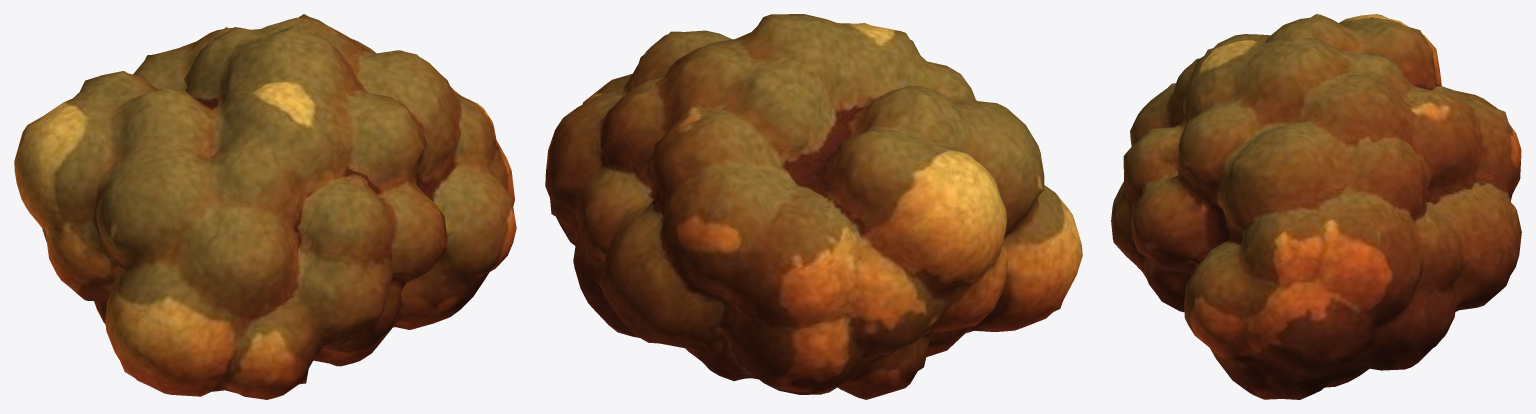
Rendered from bush_autumn_b.glb.
3 views of the same model, side by side, from view 1: azimuth 30°, elevation 25°; view 2: azimuth 150°, elevation 25°; view 3: azimuth 270°, elevation 25° (orthographic). The views are drawn at different scales.
Parts seen in each view (by area): view 1: bush_autumn_b_low0; view 2: bush_autumn_b_low0; view 3: bush_autumn_b_low0.
Boxes of the visible parts, left/top/right/bottom form: bush_autumn_b_low0: left=14, top=14, right=516, bottom=399; bush_autumn_b_low0: left=545, top=14, right=1082, bottom=399; bush_autumn_b_low0: left=1111, top=14, right=1521, bottom=399.
Bounding box in the file's own units: 1.44 × 1.04 × 1.2.
Materials: 1 (1 with a texture image).
